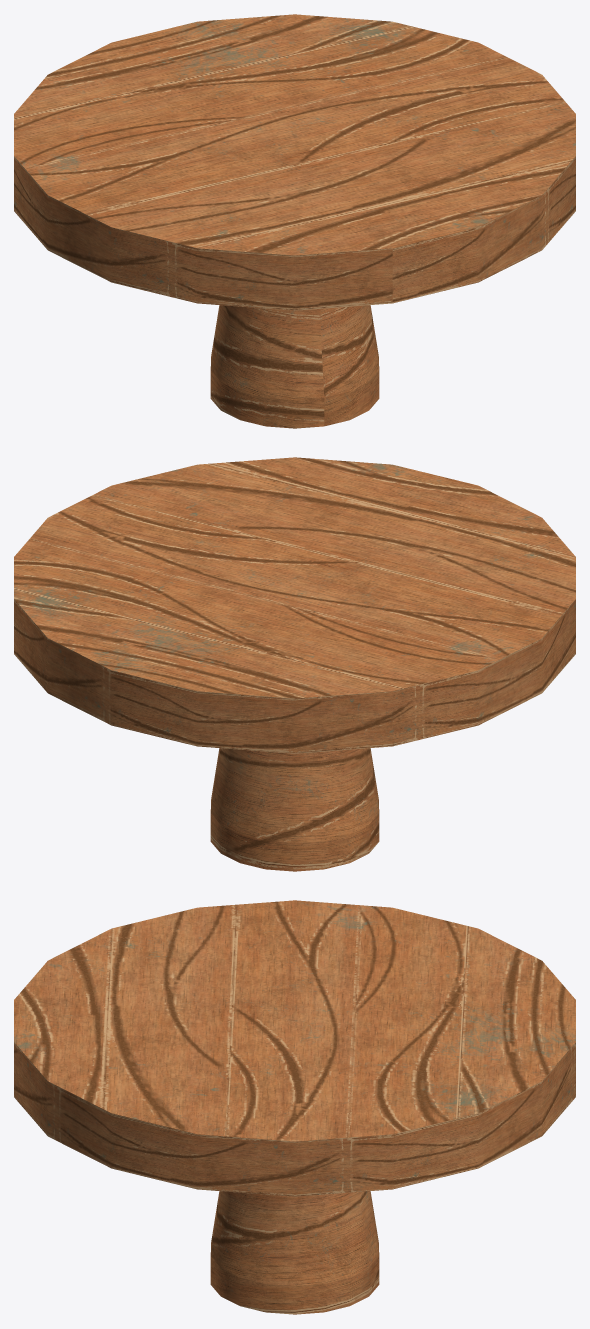
Rendered from 유교수님4.fbx.
The picture shows the model from 3 angles, top to bottom: view 1: azimuth 30°, elevation 25°; view 2: azimuth 150°, elevation 25°; view 3: azimuth 270°, elevation 25°; orthographic projection.
Visible parts, largest first — view 1: Cylinder002; view 2: Cylinder002; view 3: Cylinder002.
Boxes of the visible parts, x1=… form: Cylinder002: x1=14, y1=14, x2=575, y2=428; Cylinder002: x1=14, y1=457, x2=575, y2=871; Cylinder002: x1=14, y1=900, x2=575, y2=1314.
Size of the model in its own units: 111 by 55.48 by 110.
